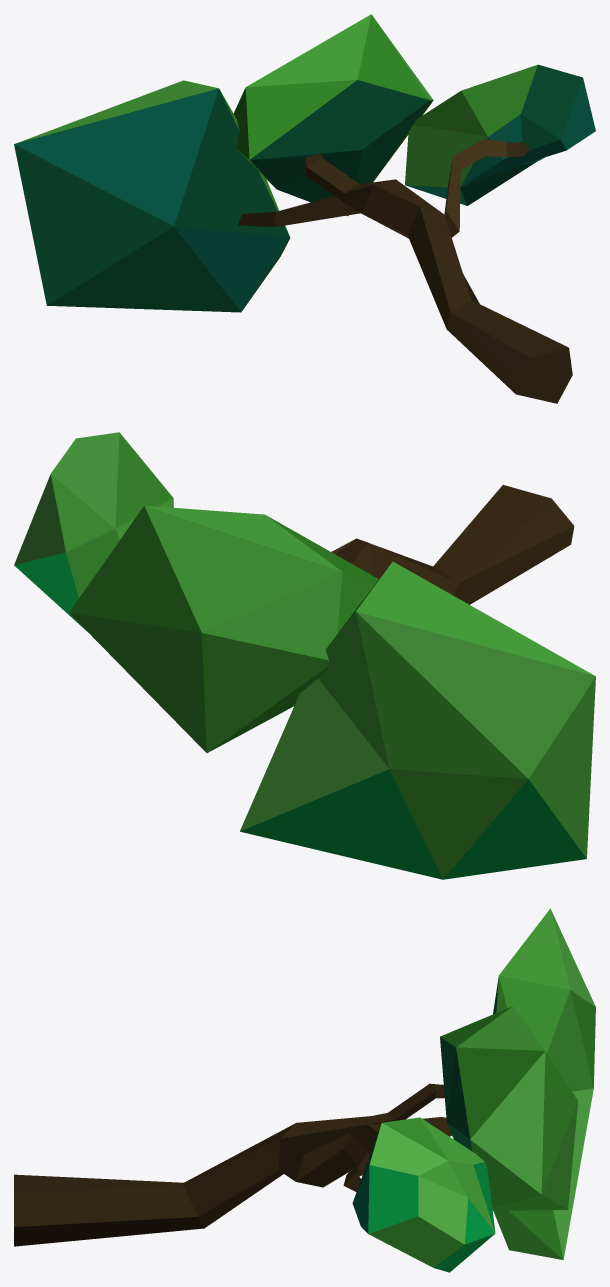
Rendered from tree_2.fbx.
3 renders of one model, top to bottom at view 1: azimuth 30°, elevation 25°; view 2: azimuth 150°, elevation 25°; view 3: azimuth 270°, elevation 25°, orthographic. The views are drawn at different scales.
Visible parts, largest first — view 1: tree_2; view 2: tree_2; view 3: tree_2.
Part boxes in pixels (x1,y1,x2,y2): tree_2: (14,14,595,403); tree_2: (14,432,595,879); tree_2: (14,908,595,1272).
Bounding box in the file's own units: 158 × 75.71 × 143.
